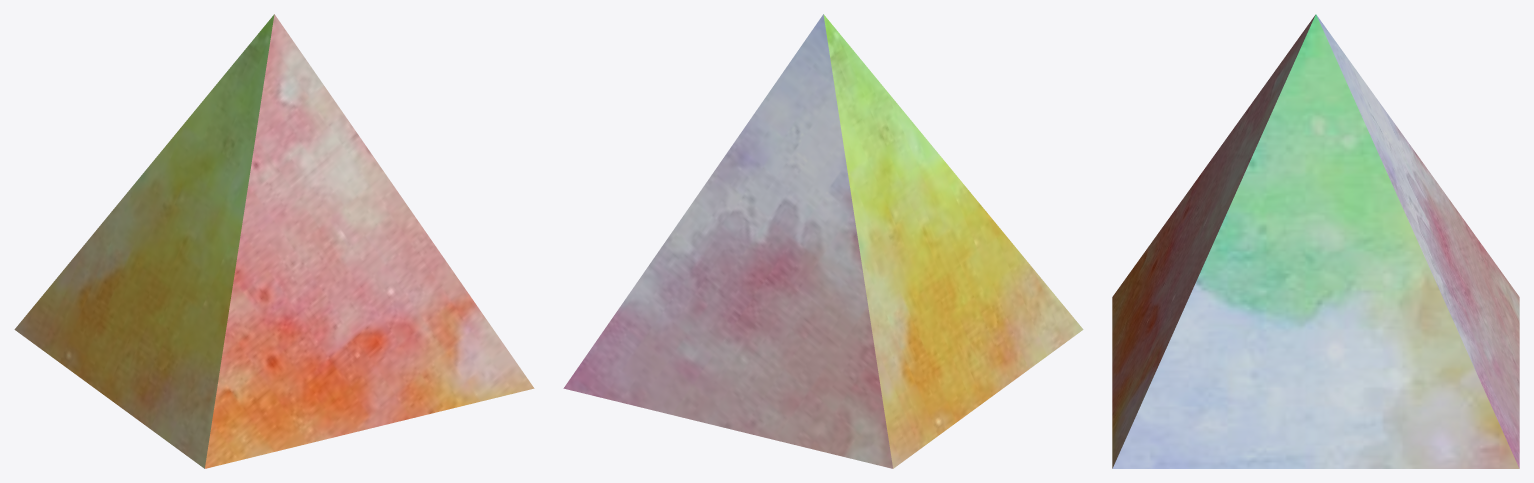
3 views of the same model, side by side, from view 1: azimuth 30°, elevation 25°; view 2: azimuth 150°, elevation 25°; view 3: azimuth 270°, elevation 25° (orthographic). The views are drawn at different scales.
Visible parts, largest first — view 1: Cube.054, Cube.053; view 2: Cube.054, Cube.053; view 3: Cube.053, Cube.054.
Boxes of the visible parts, x1,y1,x2,y2 form: Cube.054: (14,14,369,468); Cube.053: (274,14,534,428); Cube.054: (728,14,1083,468); Cube.053: (563,14,823,428); Cube.053: (1112,14,1519,468); Cube.054: (1112,15,1519,382).
Size of the model in its own units: 60 by 60 by 60.
1 material, 1 textured.
